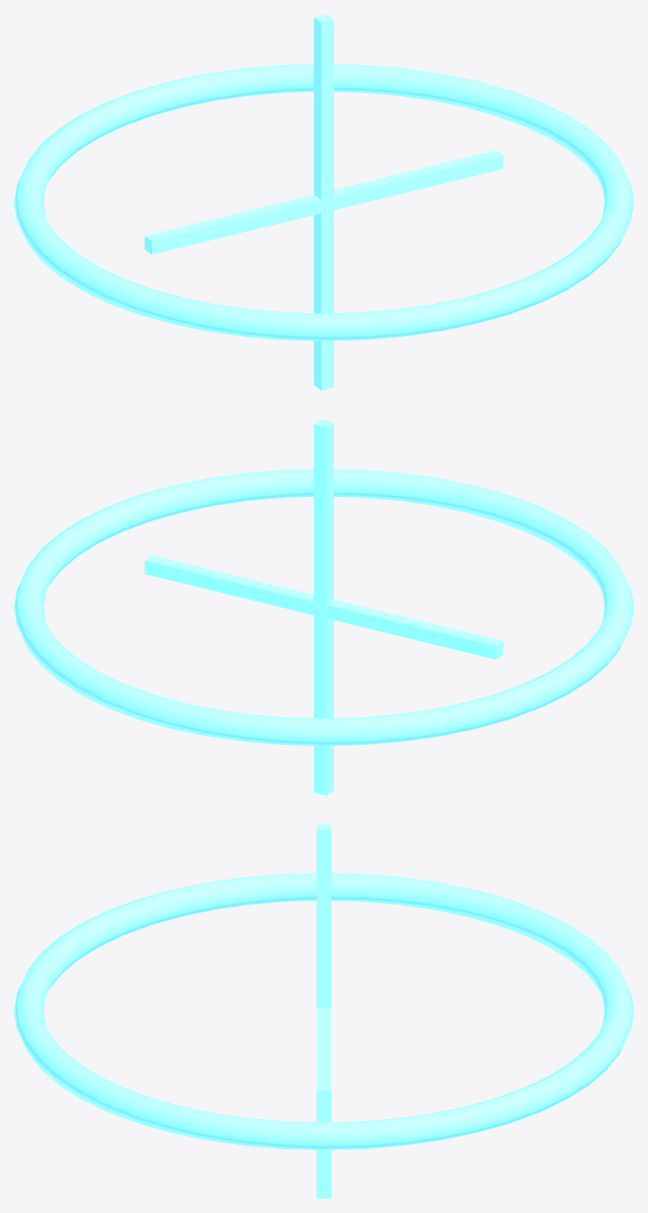
Rendered from calibration_marker.glb.
The picture shows the model from 3 angles, top to bottom: view 1: azimuth 30°, elevation 25°; view 2: azimuth 150°, elevation 25°; view 3: azimuth 270°, elevation 25°; orthographic projection.
Visible parts, largest first — view 1: CalibrationMarker; view 2: CalibrationMarker; view 3: CalibrationMarker.
Part boxes in pixels (left/top/right/bottom): CalibrationMarker: left=14, top=14, right=633, bottom=390; CalibrationMarker: left=14, top=419, right=633, bottom=795; CalibrationMarker: left=14, top=824, right=633, bottom=1198.
Bounding box in the file's own units: 0.336 × 0.22 × 0.336.
